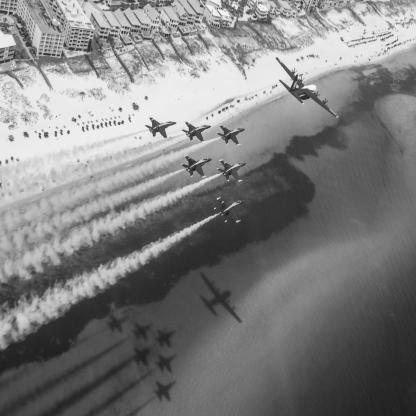C130: (276, 58, 340, 119)
F18: (215, 198, 246, 224), (145, 117, 178, 140), (182, 155, 213, 179), (218, 160, 248, 183), (182, 121, 212, 144), (217, 125, 246, 147)
